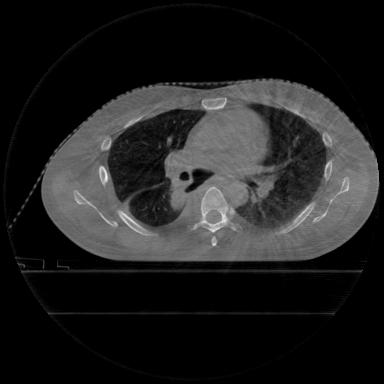body: (41, 81, 378, 261)
cord: (192, 187, 242, 233)
paru kanan: (107, 109, 203, 224)
paru kiri: (236, 104, 326, 228)
